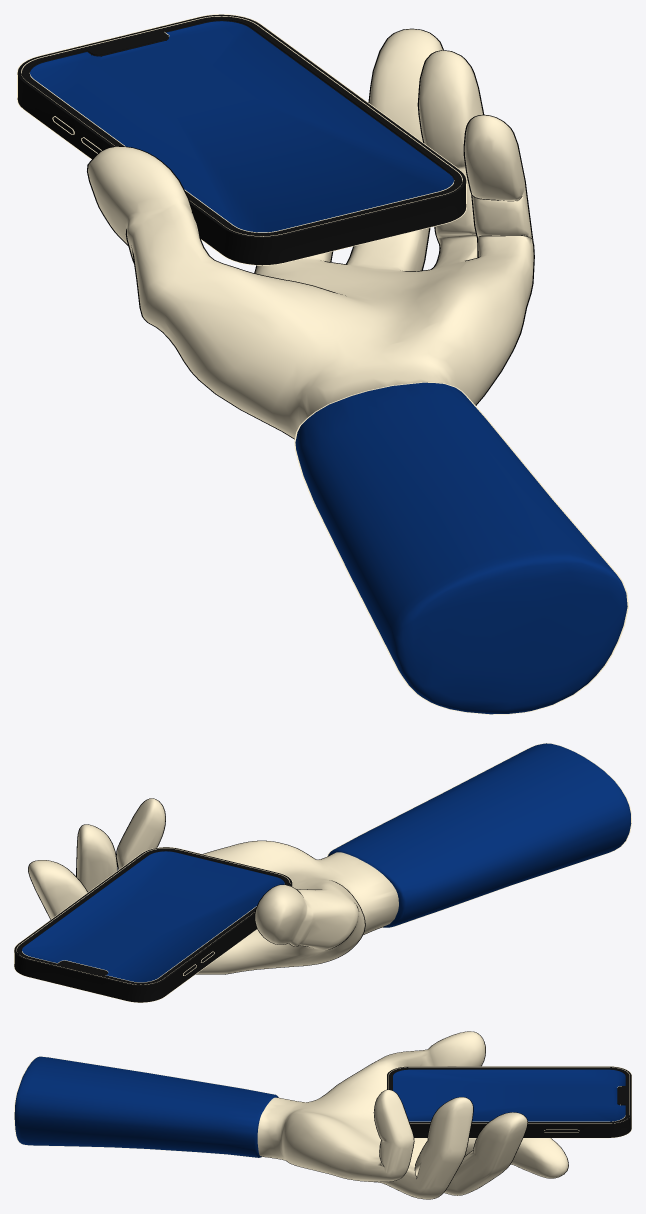
File: HandsPhone.glb
3 views of the same model, one above another, from view 1: azimuth 30°, elevation 25°; view 2: azimuth 150°, elevation 25°; view 3: azimuth 270°, elevation 25° (orthographic). The views are drawn at different scales.
Parts seen in each view (by area): view 1: Hand V1_ Left, Sleeve, Phone; view 2: Sleeve, Phone, Hand V1_ Left; view 3: Hand V1_ Left, Sleeve, Phone.
Boxes of the visible parts, x1=… form: Hand V1_ Left: x1=87, y1=28, x2=534, y2=439; Sleeve: x1=294, y1=382, x2=628, y2=714; Phone: x1=17, y1=14, x2=466, y2=265; Sleeve: x1=327, y1=743, x2=631, y2=927; Phone: x1=14, y1=847, x2=292, y2=1002; Hand V1_ Left: x1=28, y1=798, x2=398, y2=974; Hand V1_ Left: x1=257, y1=1031, x2=568, y2=1199; Sleeve: x1=14, y1=1056, x2=278, y2=1158; Phone: x1=386, y1=1066, x2=631, y2=1138.
Size of the model in its own units: 5.02 by 2.44 by 10.55.
